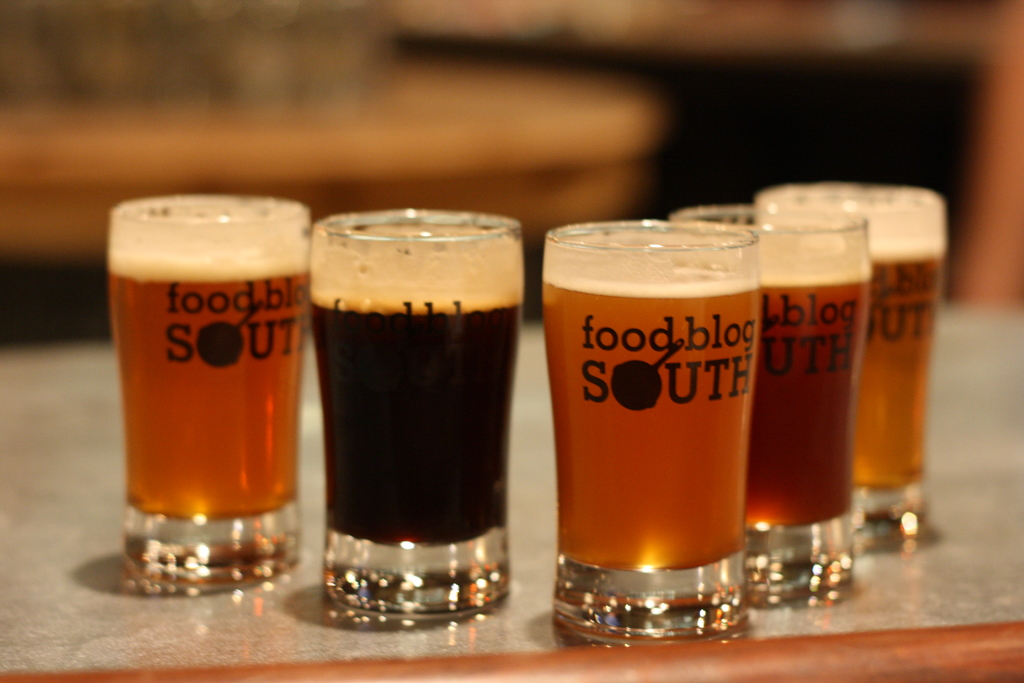Beer: (547, 307, 746, 571), (108, 271, 314, 518), (755, 278, 873, 524), (858, 238, 937, 486)
